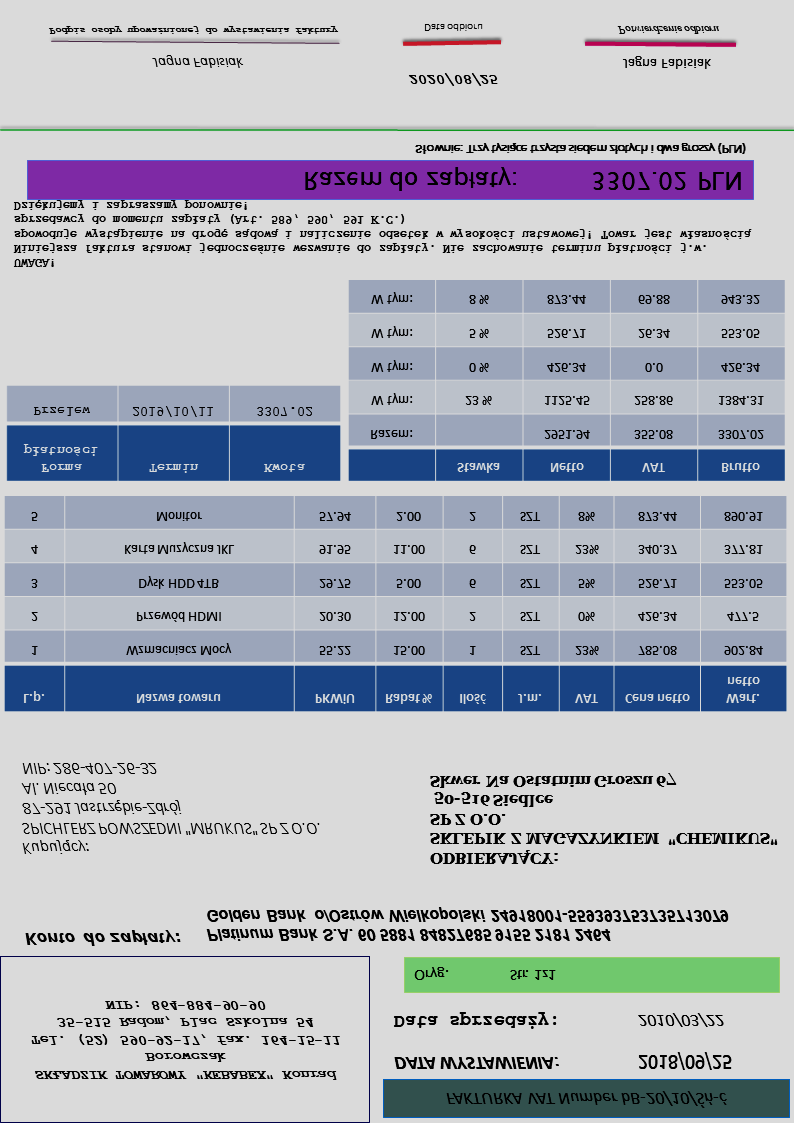Table: (2, 496, 788, 714), (348, 278, 786, 482), (4, 383, 342, 484)
TextBox: (11, 197, 752, 270), (428, 772, 778, 867), (18, 760, 321, 859), (30, 997, 343, 1084), (203, 906, 730, 946), (301, 164, 743, 196), (412, 139, 748, 158), (442, 1088, 731, 1109), (46, 23, 339, 39), (391, 1009, 560, 1033), (21, 926, 182, 949), (391, 1053, 562, 1073), (411, 964, 558, 984), (635, 1051, 734, 1074), (615, 22, 721, 38), (620, 55, 711, 72), (636, 1012, 726, 1029), (150, 55, 244, 70), (407, 72, 500, 87), (421, 20, 485, 35)
